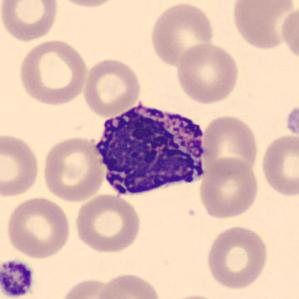Basophil: (88, 96, 213, 201)
Platelets: (0, 257, 36, 299), (283, 104, 298, 138)
RBC: (17, 37, 90, 106), (148, 1, 216, 68), (203, 223, 270, 291), (173, 40, 242, 106), (41, 134, 106, 203), (72, 192, 143, 255), (5, 194, 72, 260), (197, 155, 261, 220), (199, 112, 261, 178), (80, 56, 143, 118), (229, 0, 297, 52), (0, 131, 42, 199), (258, 132, 298, 198), (0, 0, 61, 43), (95, 271, 163, 299), (58, 275, 123, 299), (279, 5, 298, 63), (52, 0, 124, 9), (161, 292, 230, 299)
